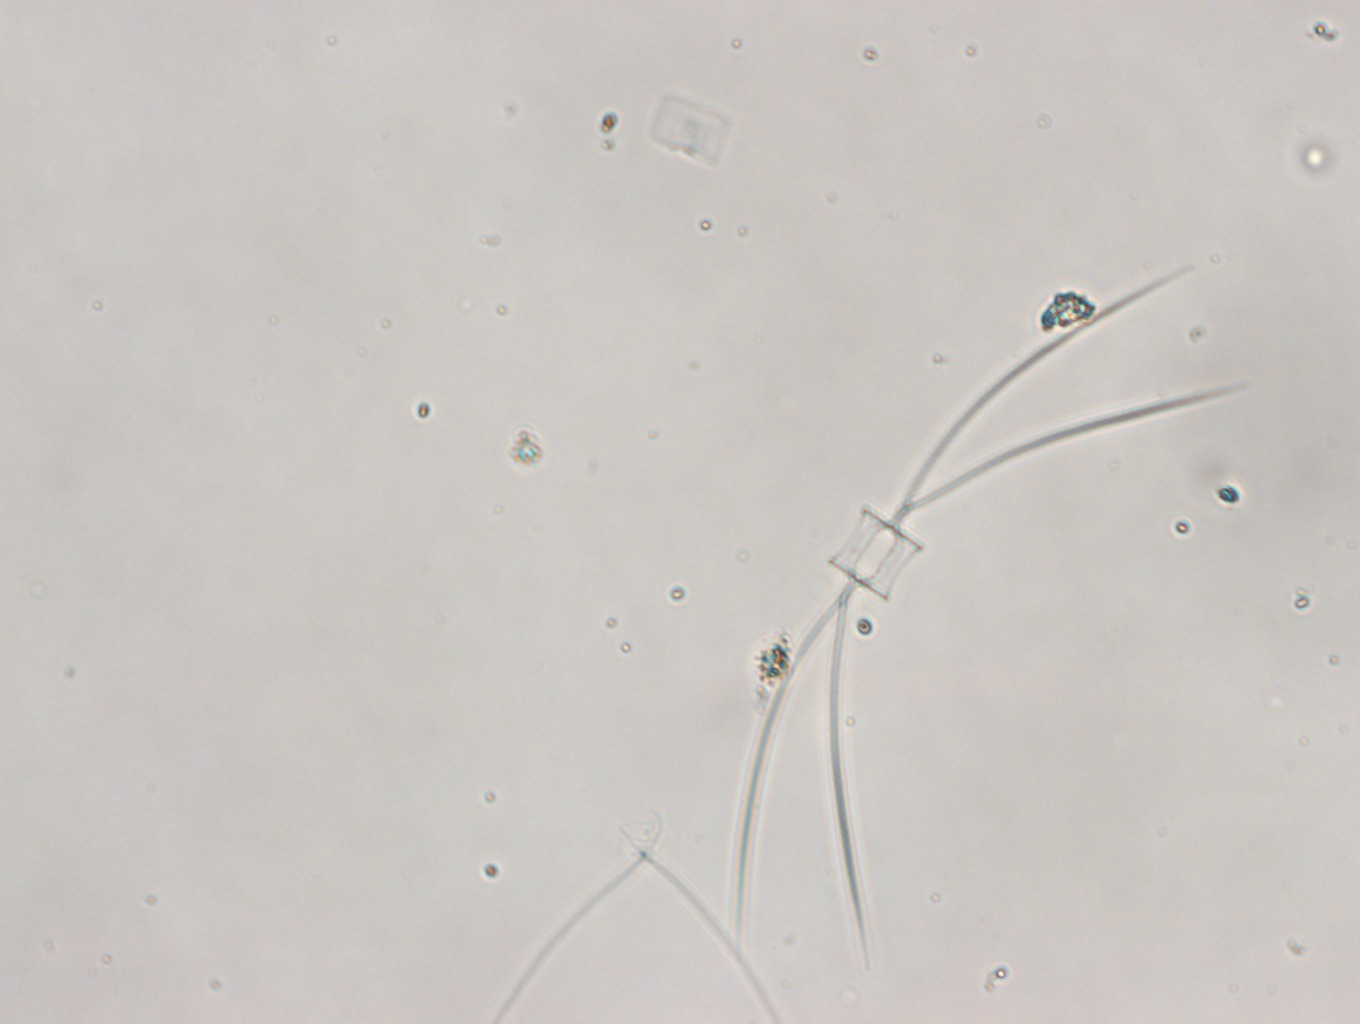chaetoceros: (735, 264, 1250, 964), (497, 811, 781, 1024)
